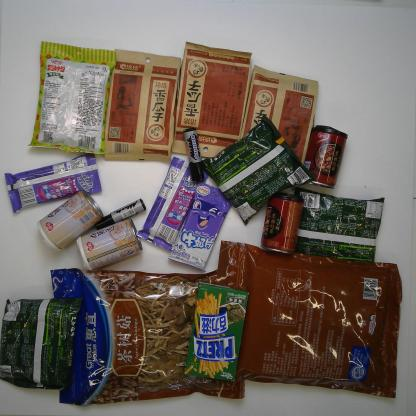Candy: (134, 153, 209, 254), (3, 152, 104, 216), (166, 178, 233, 274)
Canned Food: (34, 188, 105, 253), (72, 216, 146, 274), (300, 121, 350, 191), (258, 187, 306, 258)
Dessert: (182, 280, 251, 386)
Dried Food: (209, 235, 404, 401), (46, 265, 247, 408), (170, 38, 255, 164), (101, 47, 183, 169), (236, 60, 320, 173)
Instant Noodles: (198, 110, 320, 227), (1, 294, 86, 393), (288, 181, 386, 265)
Puffed Food: (25, 39, 118, 157)
Stationery: (93, 196, 148, 232), (180, 125, 209, 186)
